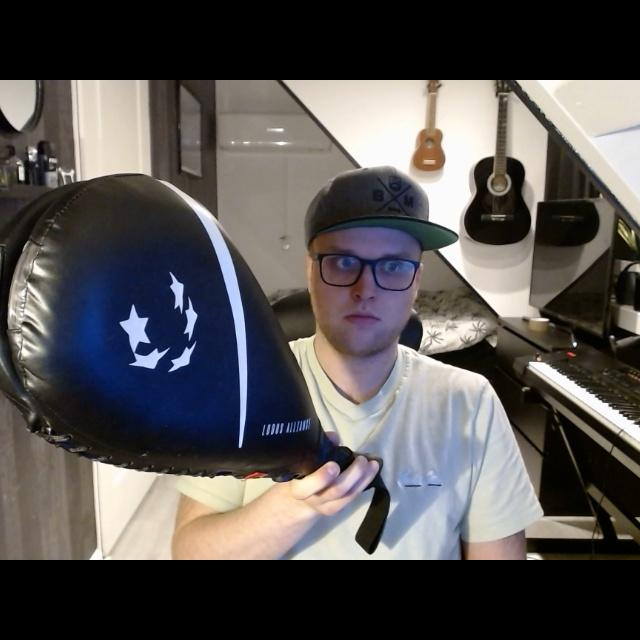paddle: (5, 171, 356, 492)
